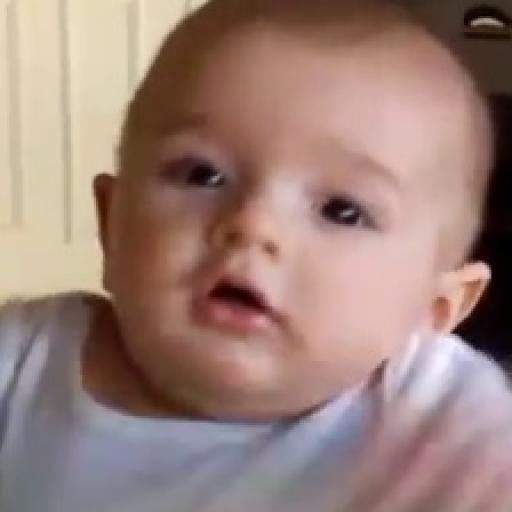Autism: (119, 8, 512, 418)
